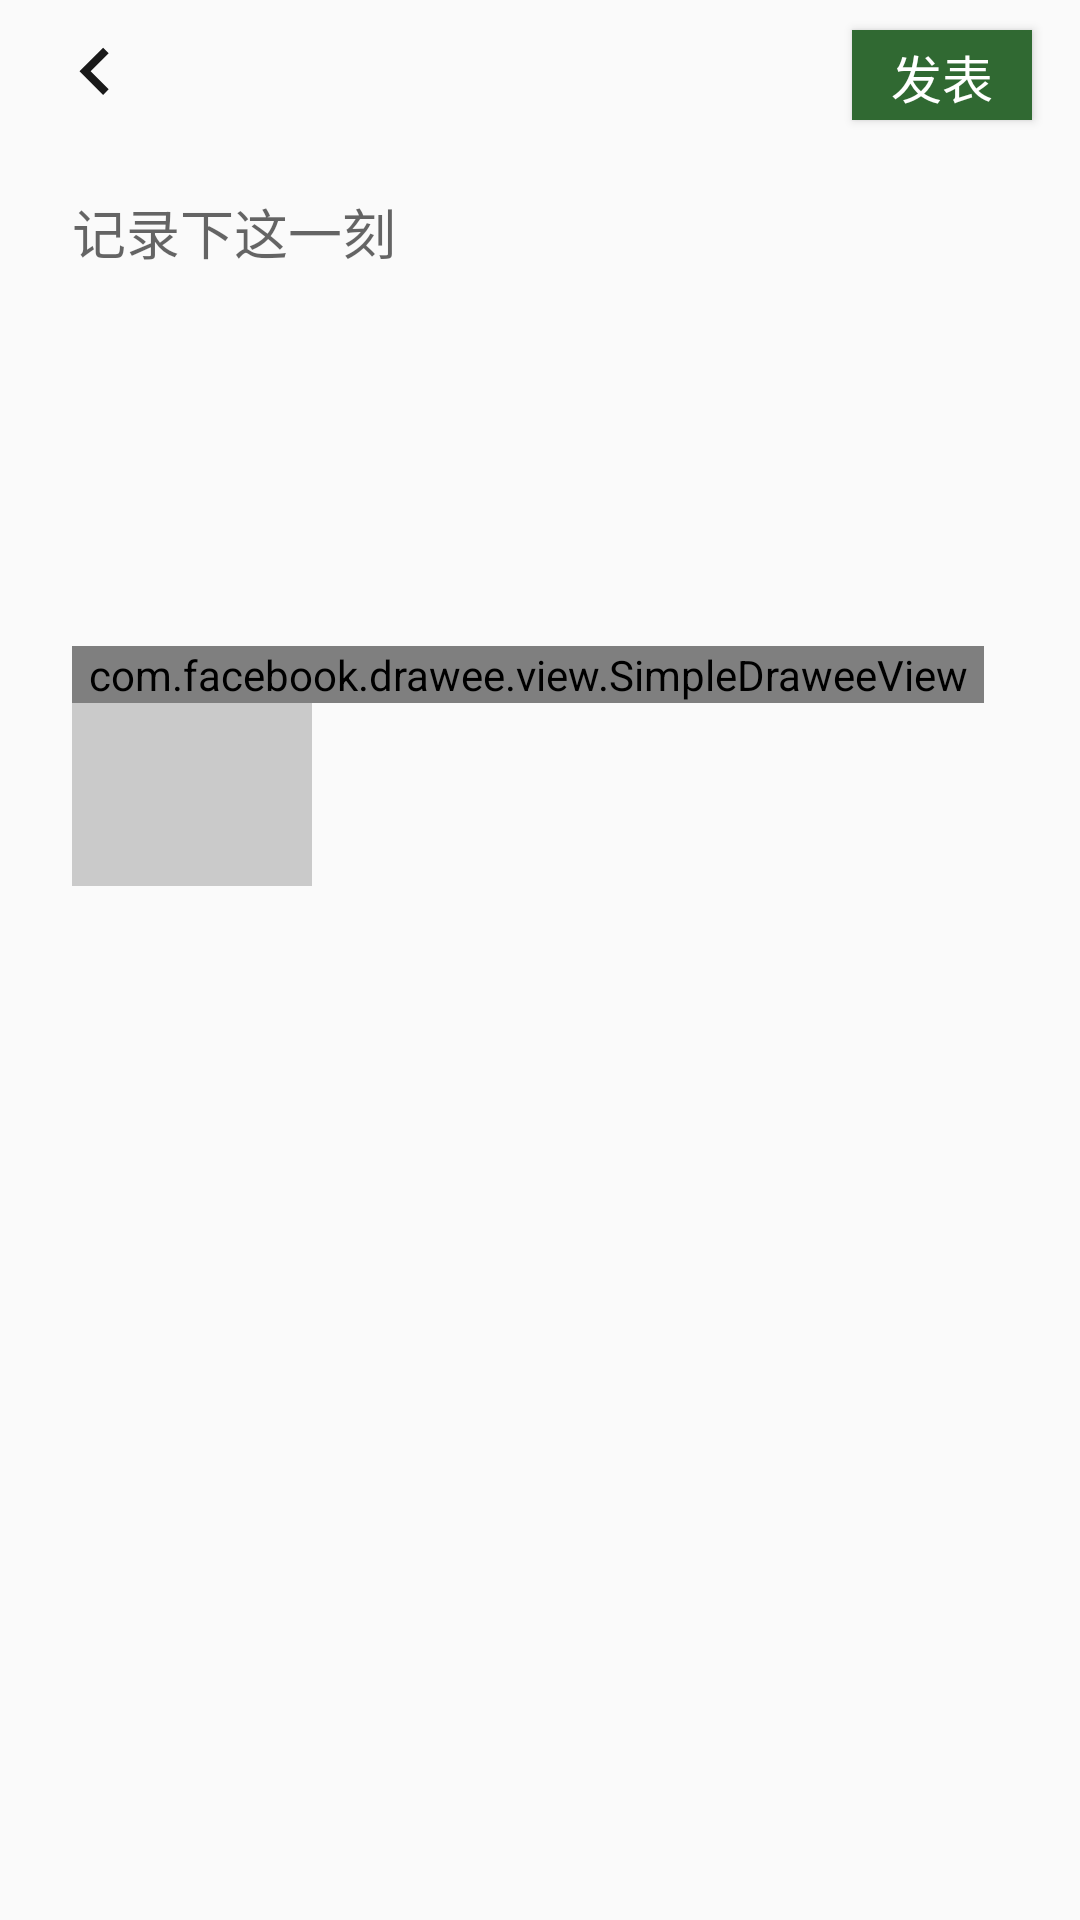

Icon bounding boxes for this 1080 x 1920 phone screenshot, format region(x1, y1, x2, y2):
nav: region(79, 48, 109, 95)
